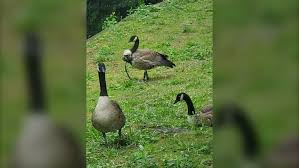goose: (90, 62, 132, 155), (121, 33, 177, 81), (171, 90, 213, 128)
